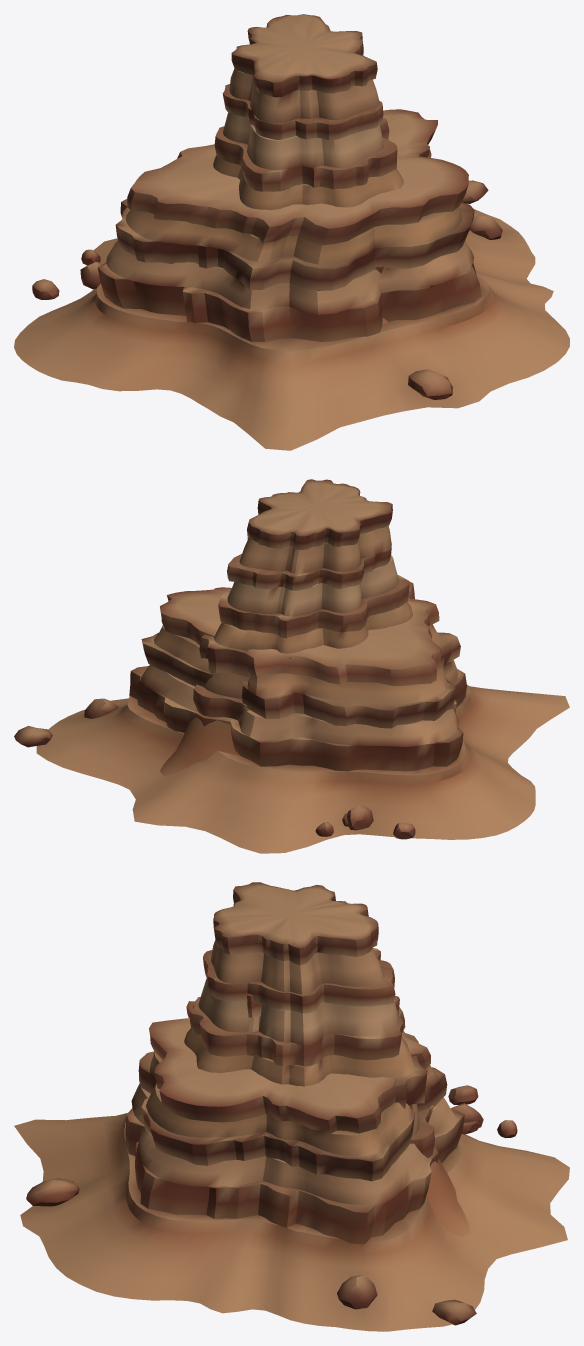
The model's file is scenery.glb.
The picture shows the model from 3 angles, top to bottom: view 1: azimuth 30°, elevation 25°; view 2: azimuth 150°, elevation 25°; view 3: azimuth 270°, elevation 25°; orthographic projection. The views are drawn at different scales.
Visible parts, largest first — view 1: butte_b, butte_c; view 2: butte_b, butte_c; view 3: butte_b, butte_c.
Boxes of the visible parts, x1=… form: butte_b: x1=14, y1=109, x2=569, y2=450; butte_c: x1=213, y1=14, x2=403, y2=324; butte_b: x1=14, y1=582, x2=569, y2=853; butte_c: x1=160, y1=479, x2=412, y2=776; butte_b: x1=14, y1=1001, x2=569, y2=1331; butte_c: x1=184, y1=882, x2=470, y2=1236.
Bounding box in the file's own units: 62.17 × 31.95 × 55.4.
